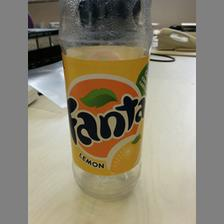Soda: (58, 1, 154, 200)
